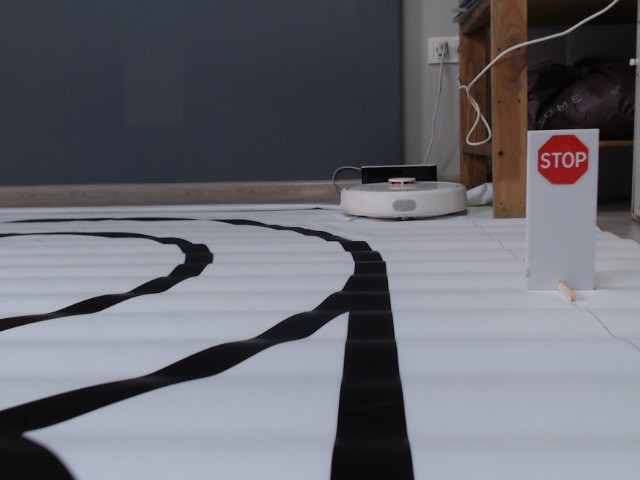Stop: (536, 133, 590, 186)
